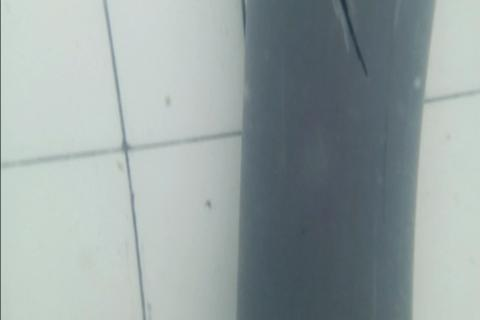keretakan: (334, 0, 370, 79)
